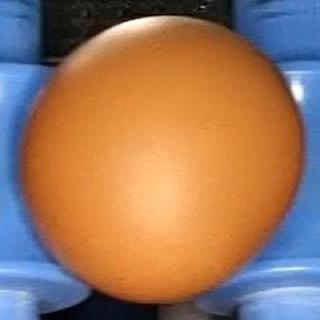Telur: (16, 17, 312, 304)
